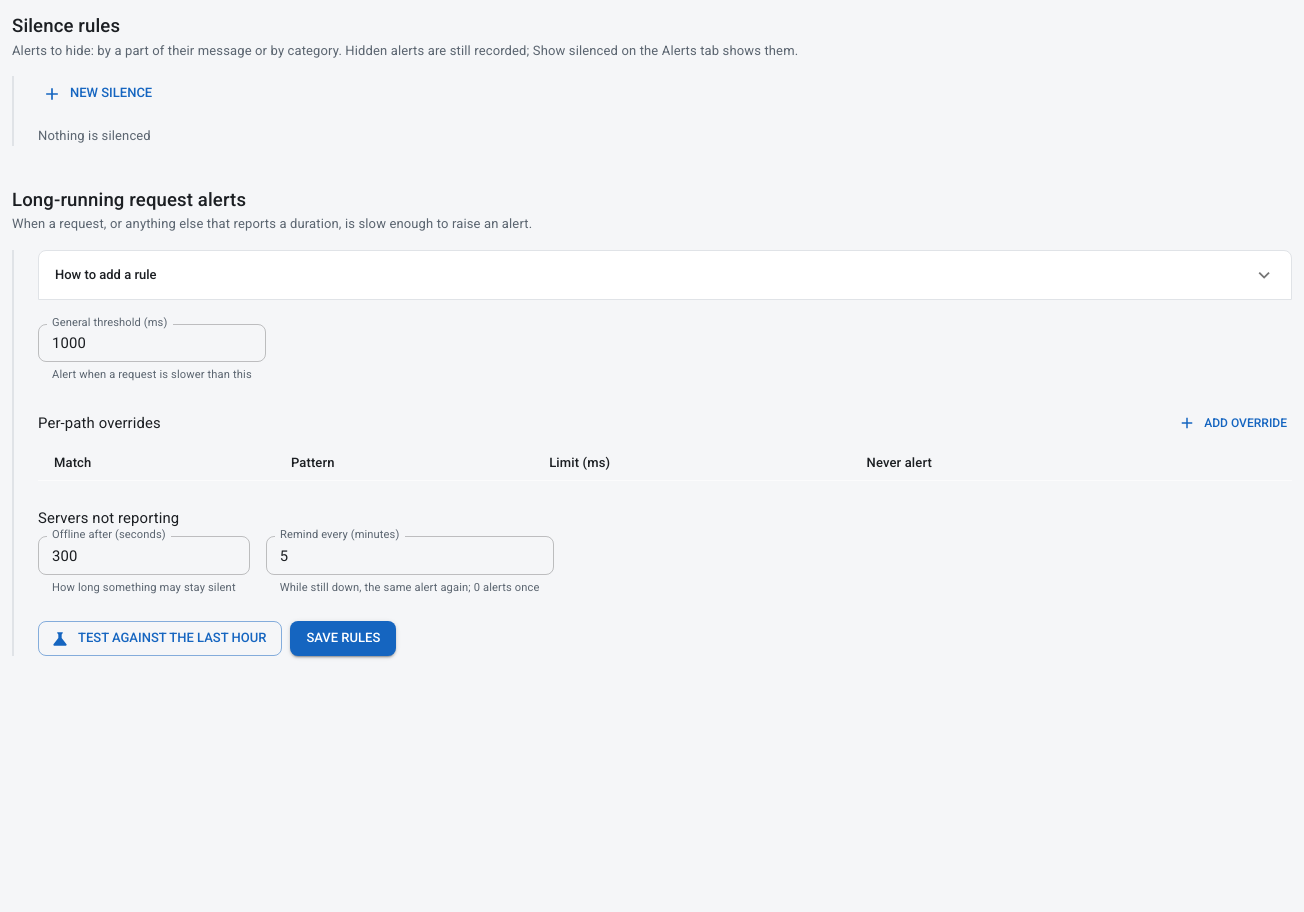
Test case: RulesPanel › explains how to add a rule when opened, and shows an example pattern
What coordinates should you click on to do the following:
click the button "How to add a rule"
I would click on:
 (106, 274)
Its box is [39,251,1291,299].
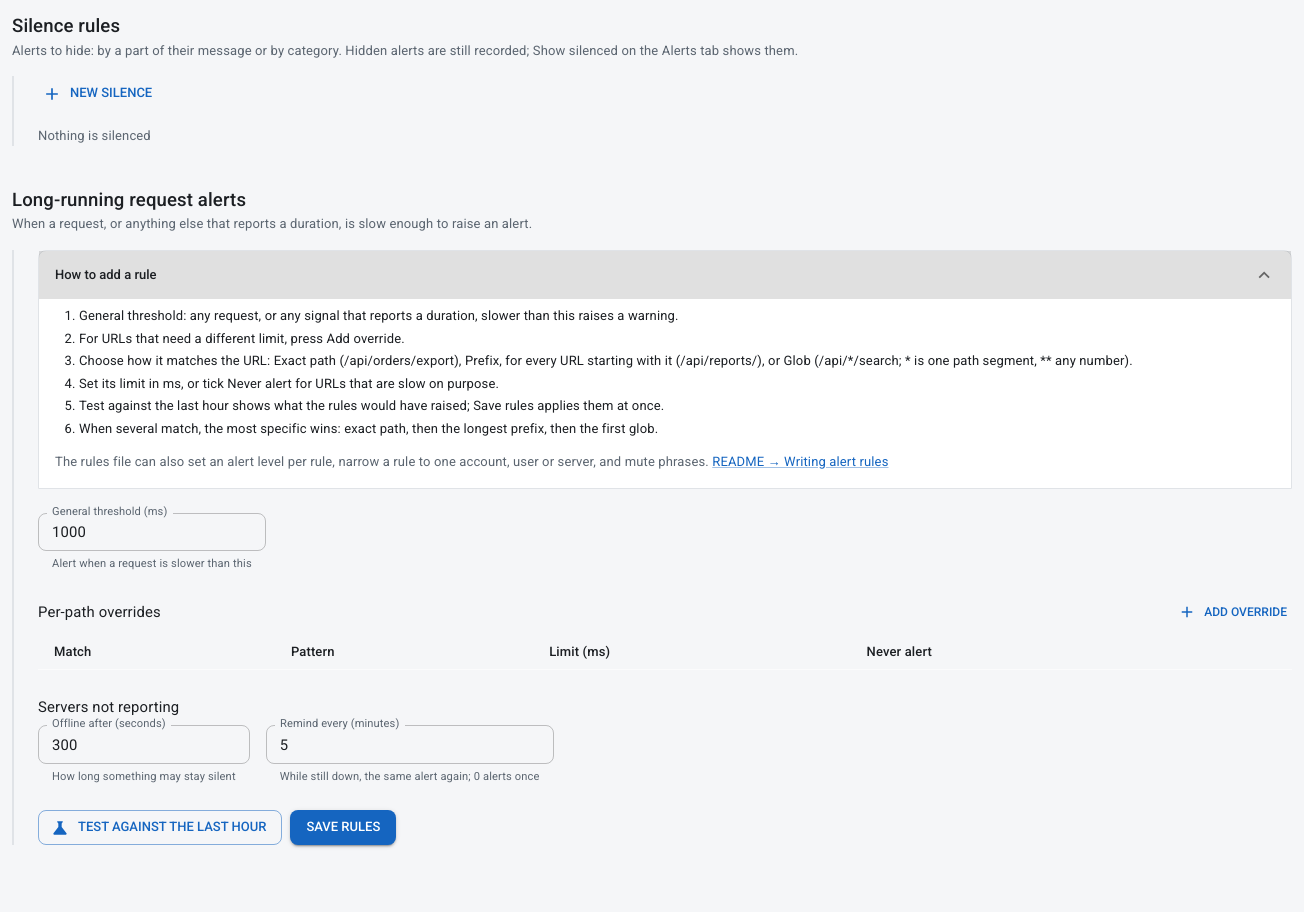
Check: the list item "For URLs that need a different limit, press Add override." is shown, box [79,330,405,346]
What coordinates should you click on to do the following:
click the button "Add override"
I would click on:
 (1234, 612)
Its box is [1175,598,1292,627].
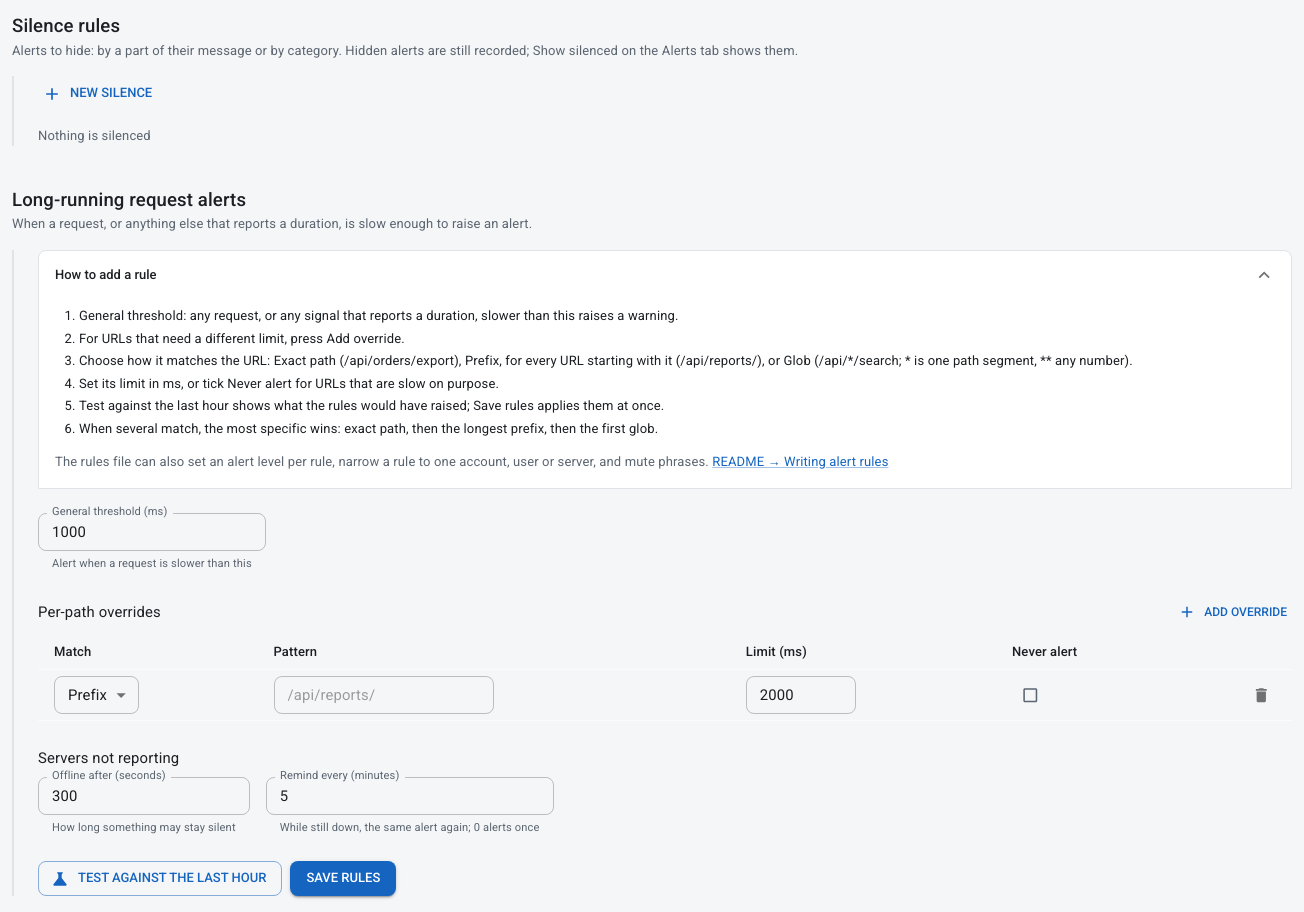
Check: the field with placeholder "/api/reports/" is shown, box [274,676,494,714]
